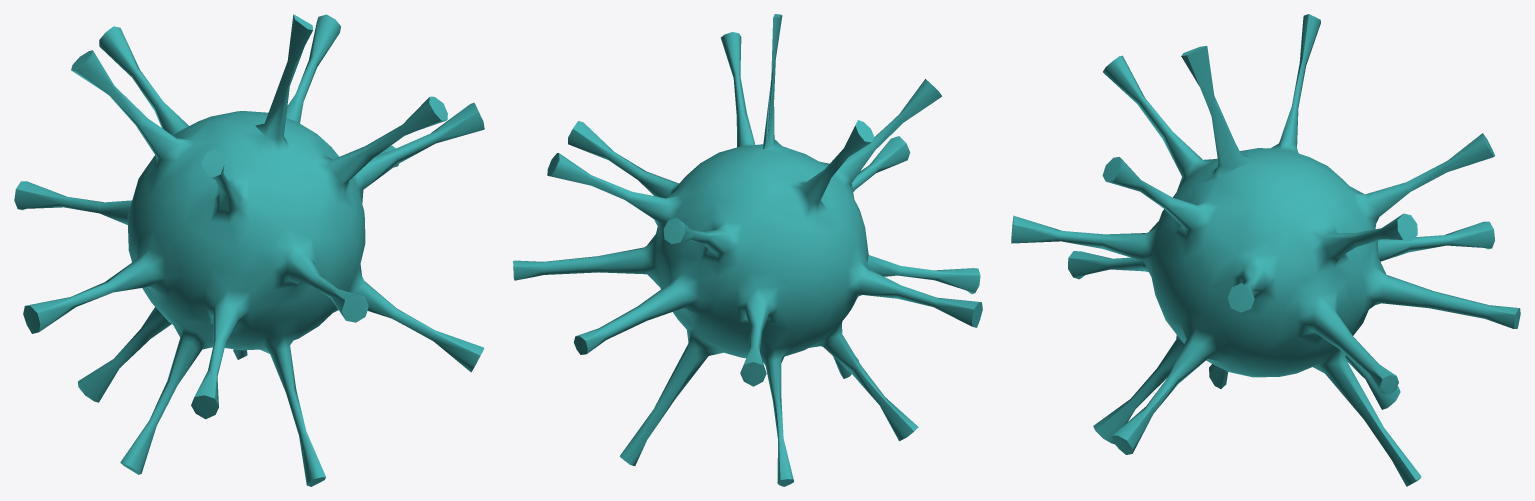
File: T细胞.obj
3 renders of one model, left to right at view 1: azimuth 30°, elevation 25°; view 2: azimuth 150°, elevation 25°; view 3: azimuth 270°, elevation 25°, orthographic. The views are drawn at different scales.
Visible parts, largest first — view 1: defaultobject; view 2: defaultobject; view 3: defaultobject.
Part boxes in pixels (x1,y1,x2,y2): defaultobject: (14, 14, 484, 486); defaultobject: (513, 14, 982, 486); defaultobject: (1011, 14, 1520, 486).
Size of the model in its own units: 144 by 133 by 147.
